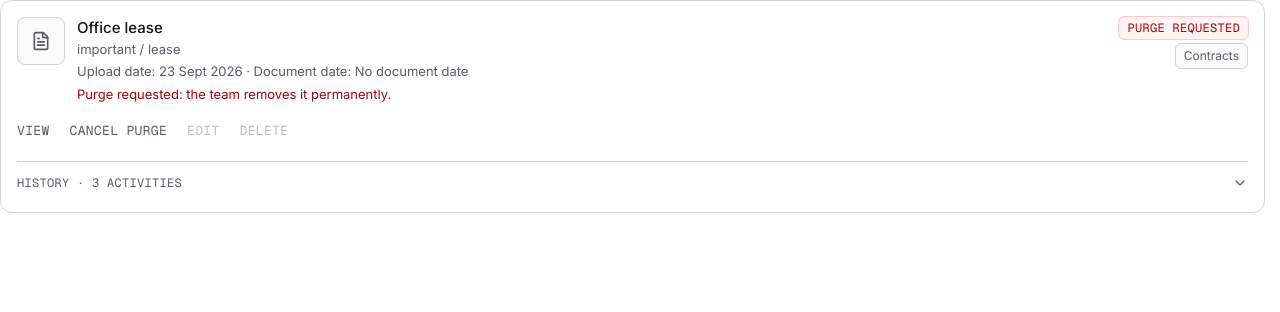
Test: History replaces the AI trace in the card's expandable panel › a document waiting for purge keeps its History, live and openable (never gated on purge-pending)
Click the button "History · 3 activities". click: {"x": 100, "y": 183}
box: [17,170,1248,196]
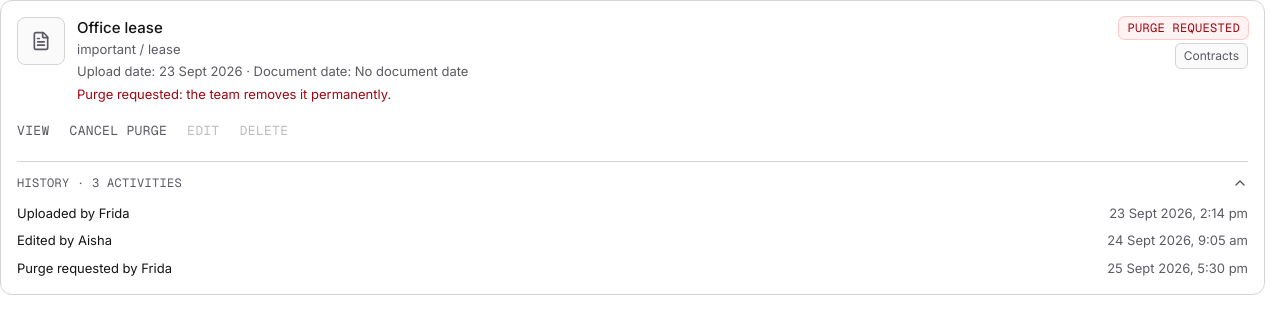
Result: the list with test id "history-panel" is shown at [17,204,1248,278]
